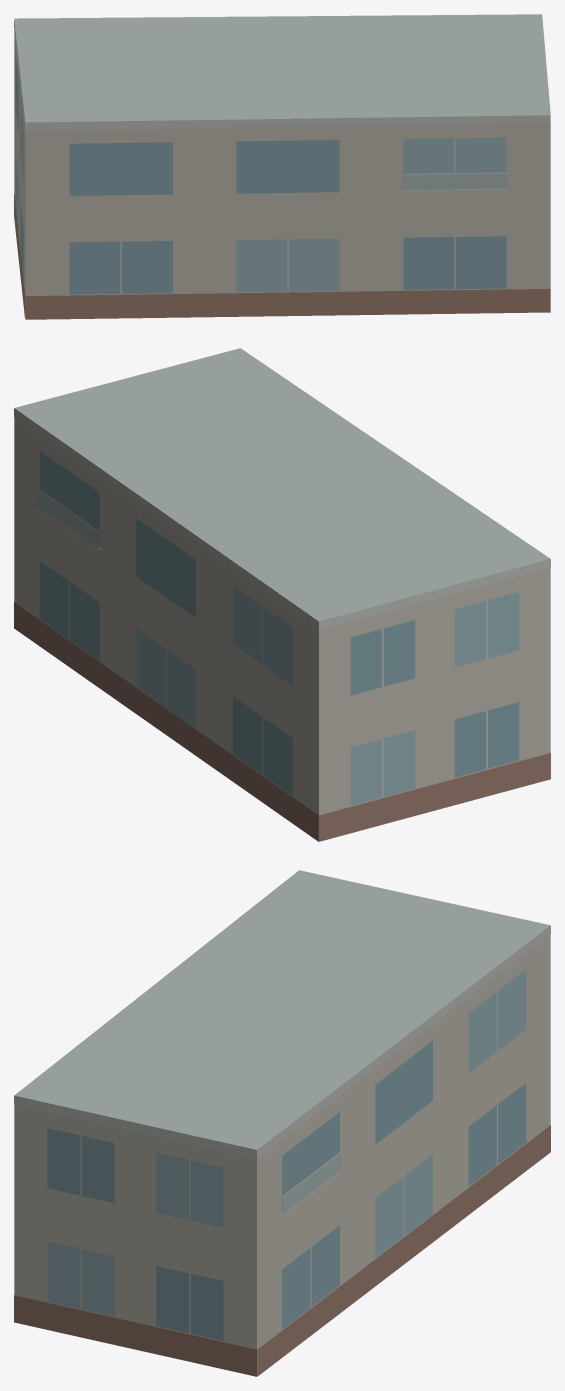
Rendered from survey-upis-32720172.glb.
The picture shows the model from 3 angles, top to bottom: view 1: azimuth 30°, elevation 25°; view 2: azimuth 150°, elevation 25°; view 3: azimuth 270°, elevation 25°; orthographic projection. The views are drawn at different scales.
Parts seen in each view (by area): view 1: survey-upis-32720172.tmp; view 2: survey-upis-32720172.tmp; view 3: survey-upis-32720172.tmp.
Part boxes in pixels (box(x1,y1,x2,y2)): survey-upis-32720172.tmp: box(14, 14, 550, 319); survey-upis-32720172.tmp: box(14, 348, 550, 841); survey-upis-32720172.tmp: box(14, 870, 550, 1376).
Bounding box in the file's own units: 16.15 × 6.1 × 13.09.
